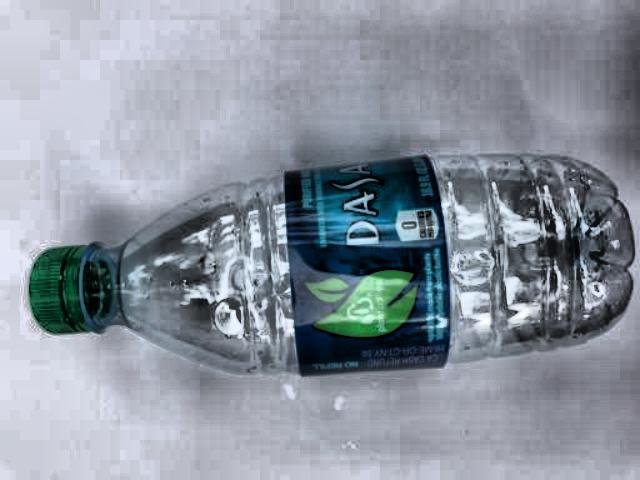Bottles: (12, 139, 640, 391)
